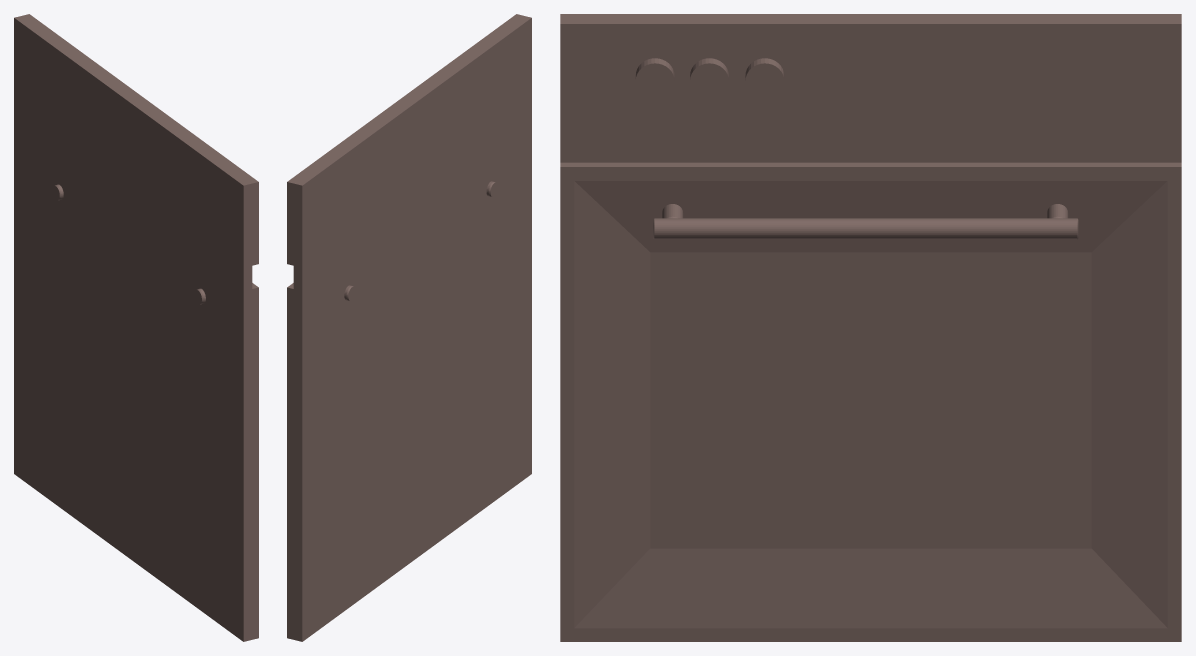
The model's file is horno.fbx.
The picture shows the model from 3 angles, left to right: view 1: azimuth 30°, elevation 25°; view 2: azimuth 150°, elevation 25°; view 3: azimuth 270°, elevation 25°; orthographic projection. The views are drawn at different scales.
Parts seen in each view (by area): view 1: horno; view 2: horno; view 3: horno.
Boxes of the visible parts, <box> form: horno: <box>14,14,258,641</box>; horno: <box>287,14,531,641</box>; horno: <box>560,14,1181,641</box>.
Size of the model in its own units: 161 by 177 by 19.
